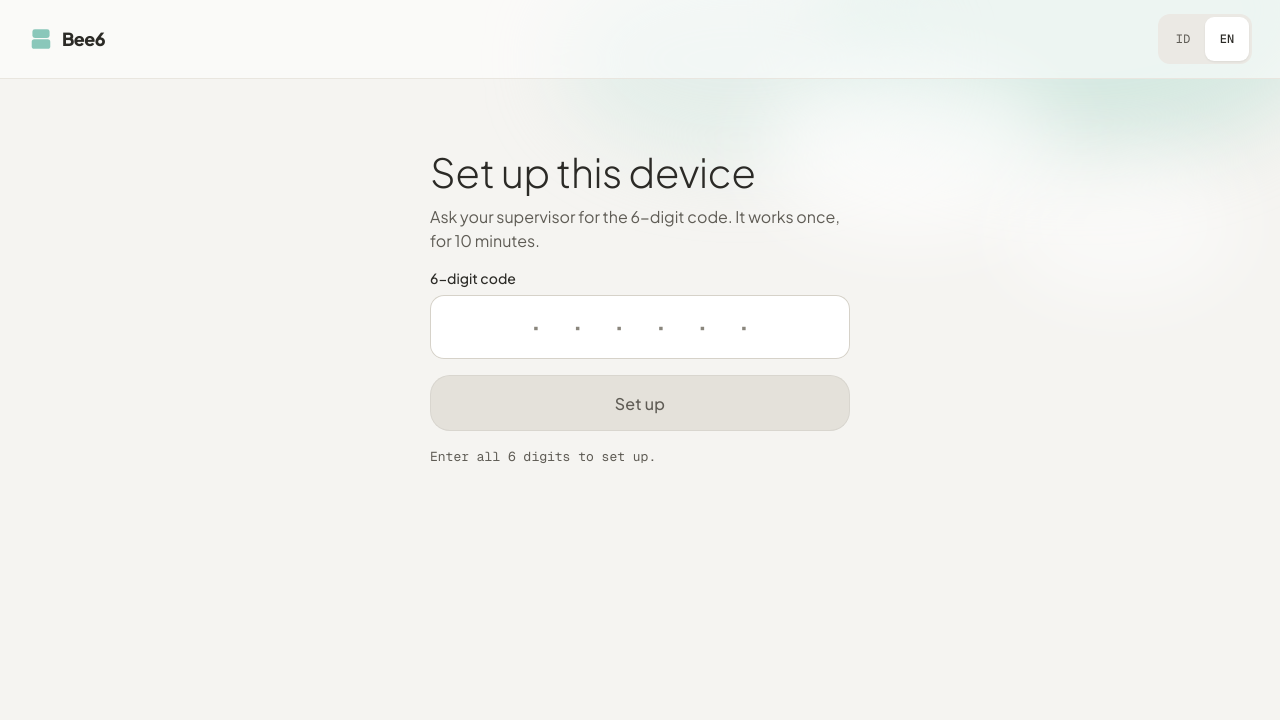
Test case: PairScreen on the pilot (demo=false): Set up this device, pilot copy unchanged › success: 'Phone set up', the outlet line, the four pilot steps (step 3 ends at the Mulai window end) and a link to /capture
The image size is (1280, 720).
Type "123456" into the field labelled "6-digit code" at (640, 327), box [430,295,850,359]
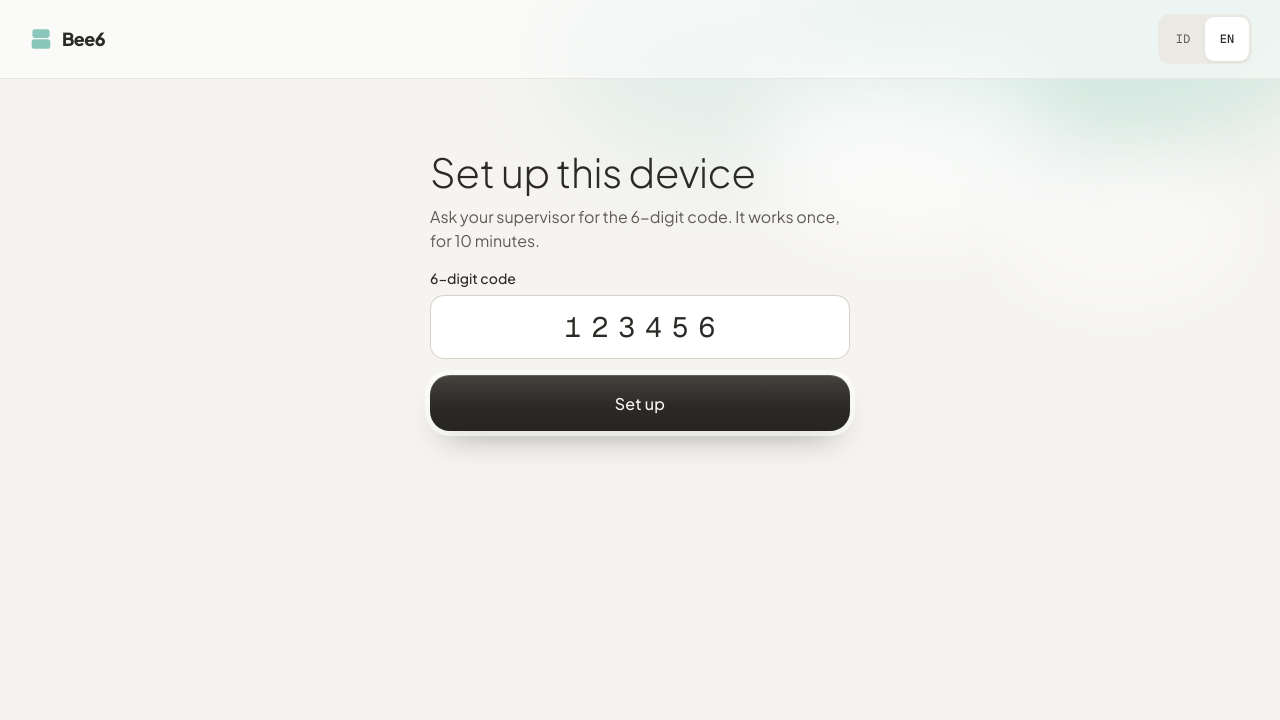
Click the button "Set up" at (640, 403), box [430,375,850,431]
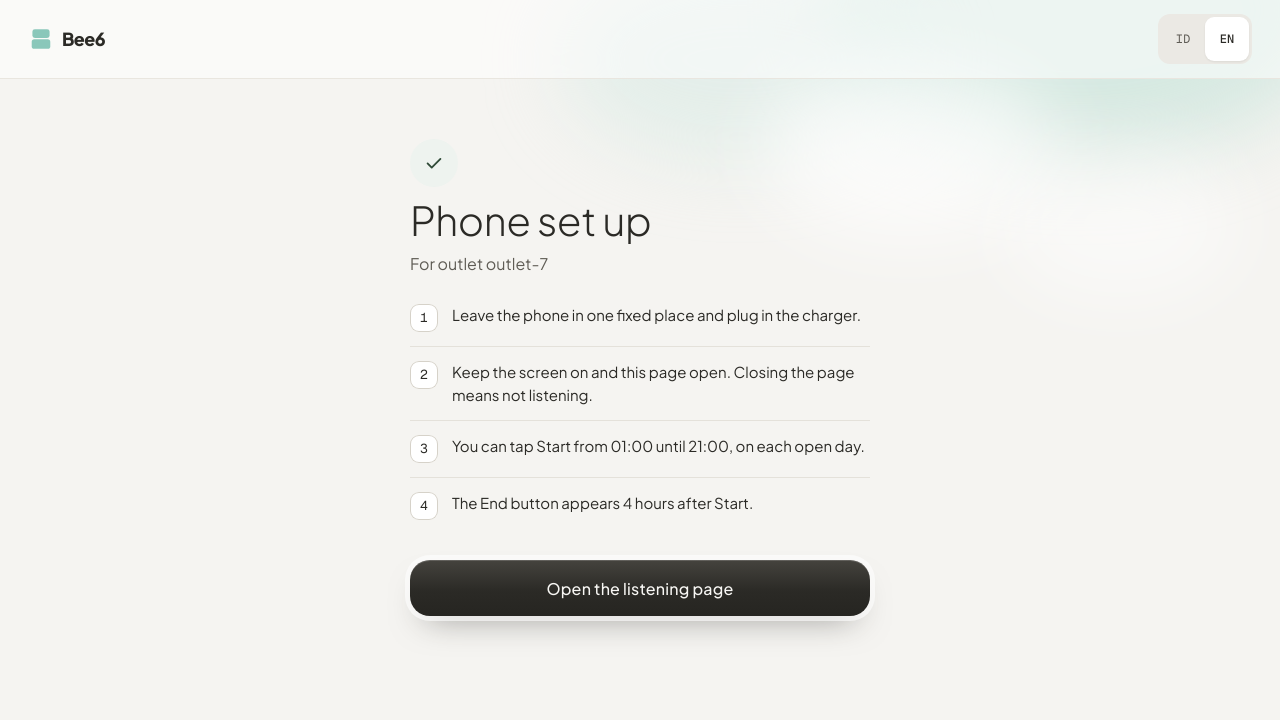
expect the heading "Phone set up" is shown: met, box [410,194,651,245]
expect the text "For outlet outlet-7" is shown: met, box [410,253,548,274]
expect the list item "Leave the phone in one fixed place and plug in the charger." is shown: met, box [410,290,870,347]
